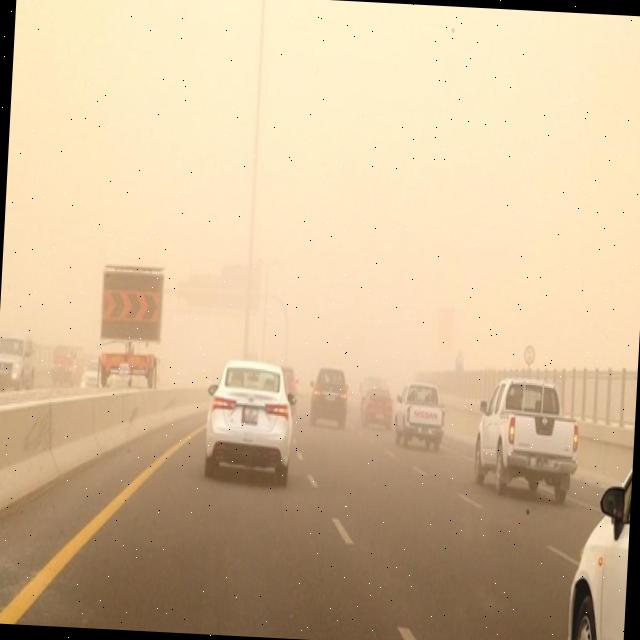car: (470, 376, 585, 506), (200, 356, 296, 487), (565, 458, 632, 640), (393, 380, 447, 452), (308, 366, 349, 429), (0, 334, 37, 391), (50, 346, 86, 389), (361, 386, 394, 429), (279, 364, 300, 416), (80, 356, 110, 388)
